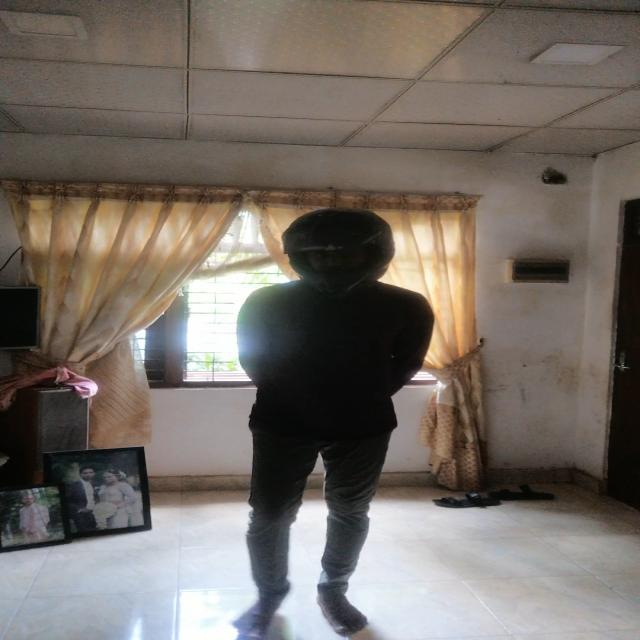Helmet_Wearer: (282, 210, 391, 299)
Person: (224, 204, 424, 634)
